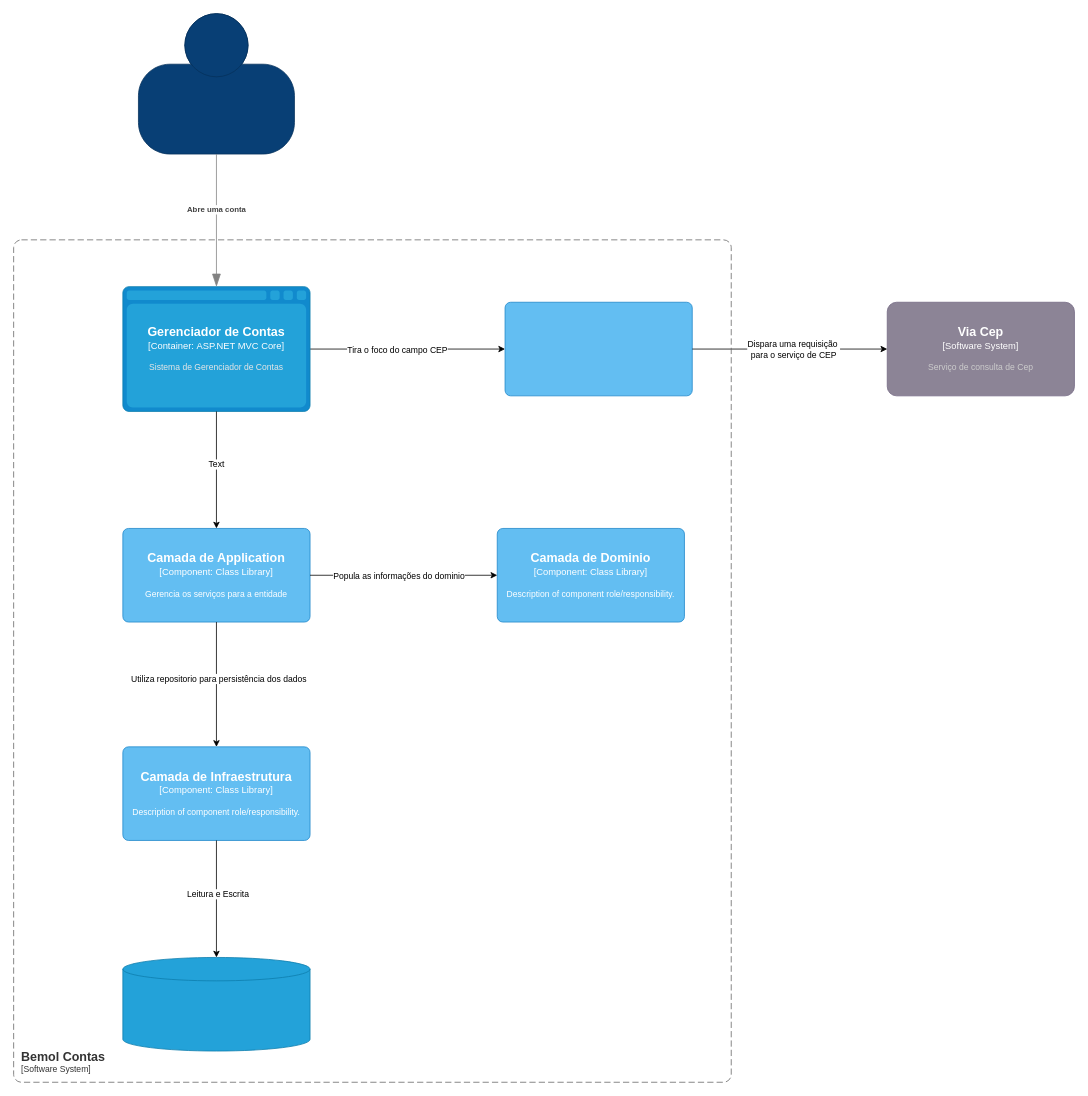
The diagram is 1088 pixels wide and 1096 high, and some of its shapes have lost their labels. The shapes that lost their labels are listed below. From the top down, each one's centre as x and y in pixels, then its label:
At pixel 216 83: "Usuário [Person] Usuário interessado em usar o sistema".
At pixel 598 348: "site.js [Component: Javascript] Utiliza script para consulta de cep".
At pixel 216 1004: "Banco de Dados [Container: SQL Server] Armazena dados das contas de cliente".
